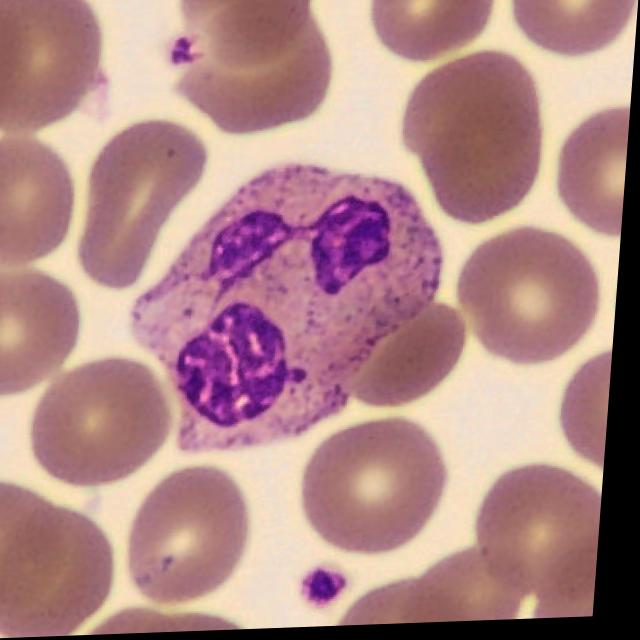Neutrofilo segmentado: (134, 165, 448, 451)
